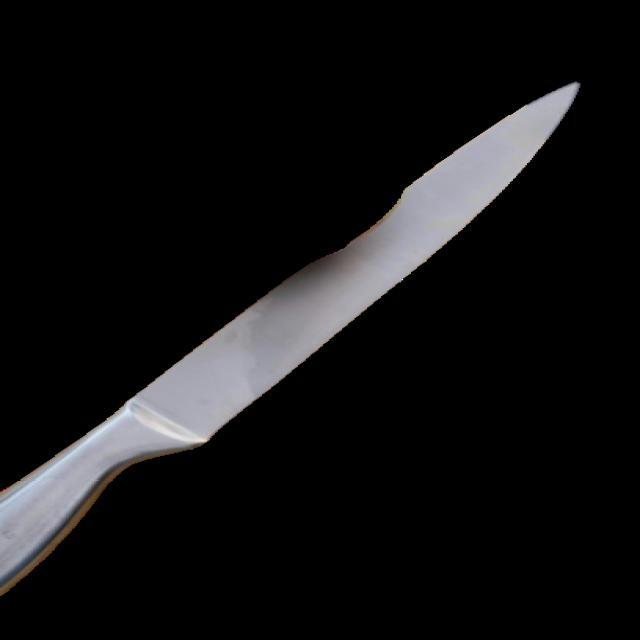knife: (2, 76, 587, 592)
